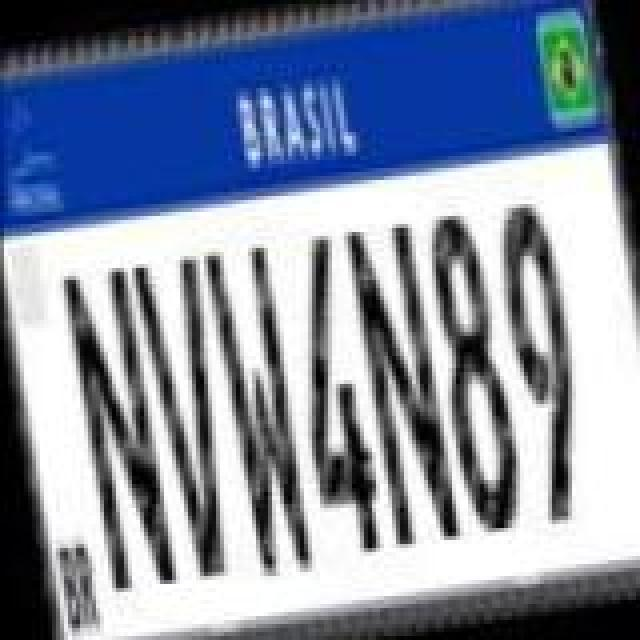4: (270, 222, 386, 562)
8: (408, 198, 528, 542)
9: (480, 184, 600, 528)
N: (338, 210, 462, 554), (58, 260, 178, 596)
V: (130, 248, 250, 584)
W: (196, 238, 320, 582)
